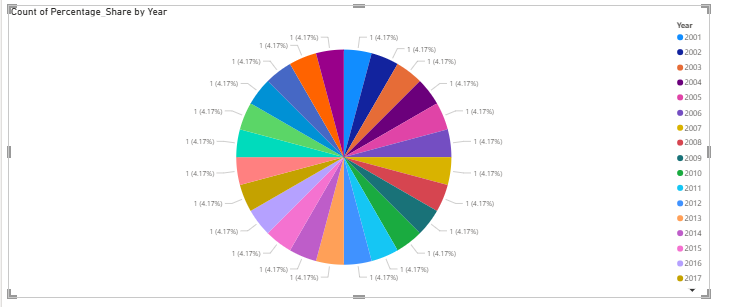

The page's visual inventory and layout, read from the dashboard file:
{"tool":"powerbi","page":{"name":"Page 3","canvas":[1280,720],"ordinal":2},"visuals":[{"type":"textbox","box":[10.1,0,1179.2,171.3],"z":0},{"type":"pieChart","fields":{"Category":["rwanda_agriculture_value_added_percentage_share.Year"],"Y":["CountNonNull(rwanda_agriculture_value_added_percentage_share.Percentage_Share)"]},"box":[10.1,186.5,1179.2,492.2],"z":1}]}

Visuals, with their boxes on the page's 1280x720 design canvas (x1, y1, x2, y2). These are canvas units, not pixel positions in the 742x307 screenshot, which may show the page scaled, cropped or inside an application window:
textbox: rect(10, 0, 1189, 171)
pieChart - rwanda_agriculture_value_added_percentage_share.Year x CountNonNull(rwanda_agriculture_value_added_percentage_share.Percentage_Share): rect(10, 186, 1189, 679)
